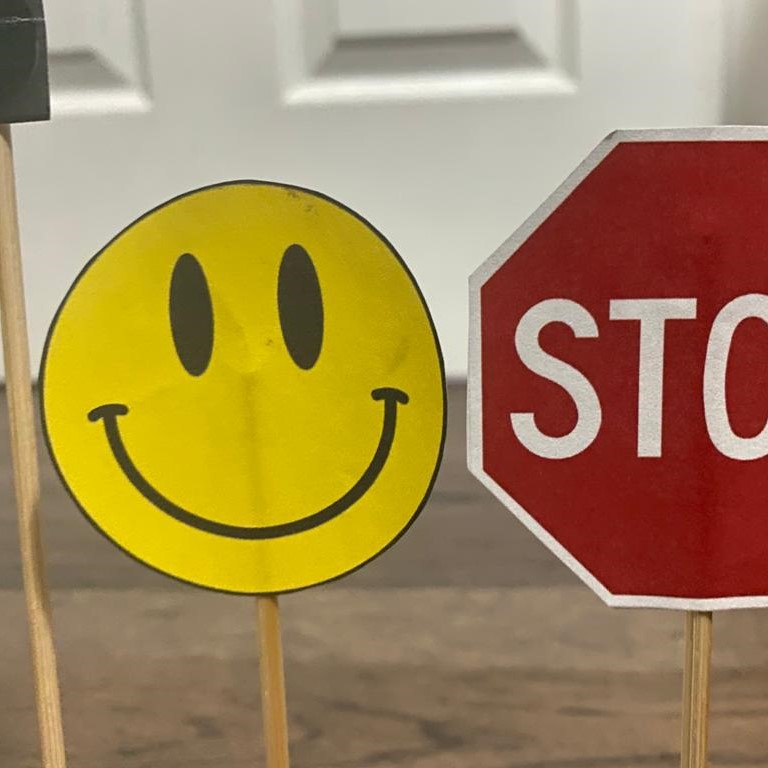Person: (37, 177, 449, 598)
